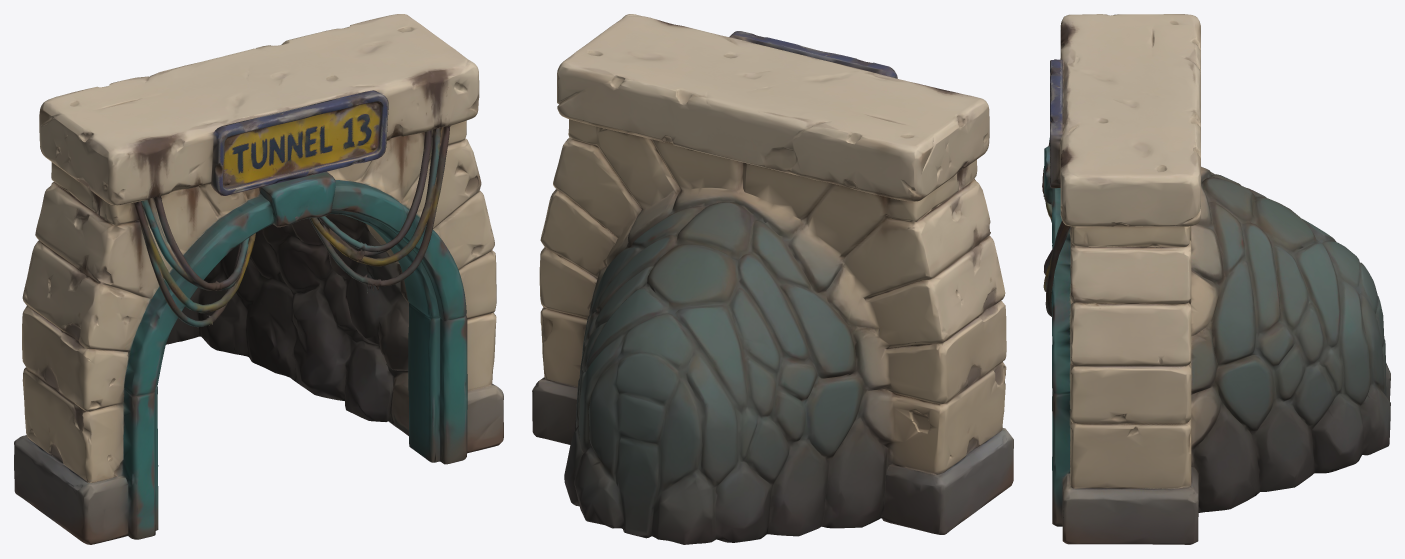
Rendered from tunnel_entrance.glb.
3 views of the same model, side by side, from view 1: azimuth 30°, elevation 25°; view 2: azimuth 150°, elevation 25°; view 3: azimuth 270°, elevation 25° (orthographic). The views are drawn at different scales.
Parts seen in each view (by area): view 1: tripo_node_69eff92c-9a0b-435d-8f88-d0407f6cb053; view 2: tripo_node_69eff92c-9a0b-435d-8f88-d0407f6cb053; view 3: tripo_node_69eff92c-9a0b-435d-8f88-d0407f6cb053.
Part boxes in pixels (box(x1,y1,x2,y2)): tripo_node_69eff92c-9a0b-435d-8f88-d0407f6cb053: box(14, 14, 503, 544); tripo_node_69eff92c-9a0b-435d-8f88-d0407f6cb053: box(532, 14, 1013, 544); tripo_node_69eff92c-9a0b-435d-8f88-d0407f6cb053: box(1042, 14, 1390, 544).
Size of the model in its own units: 0.9785 by 0.866 by 0.7636.
1 material, 1 textured.
